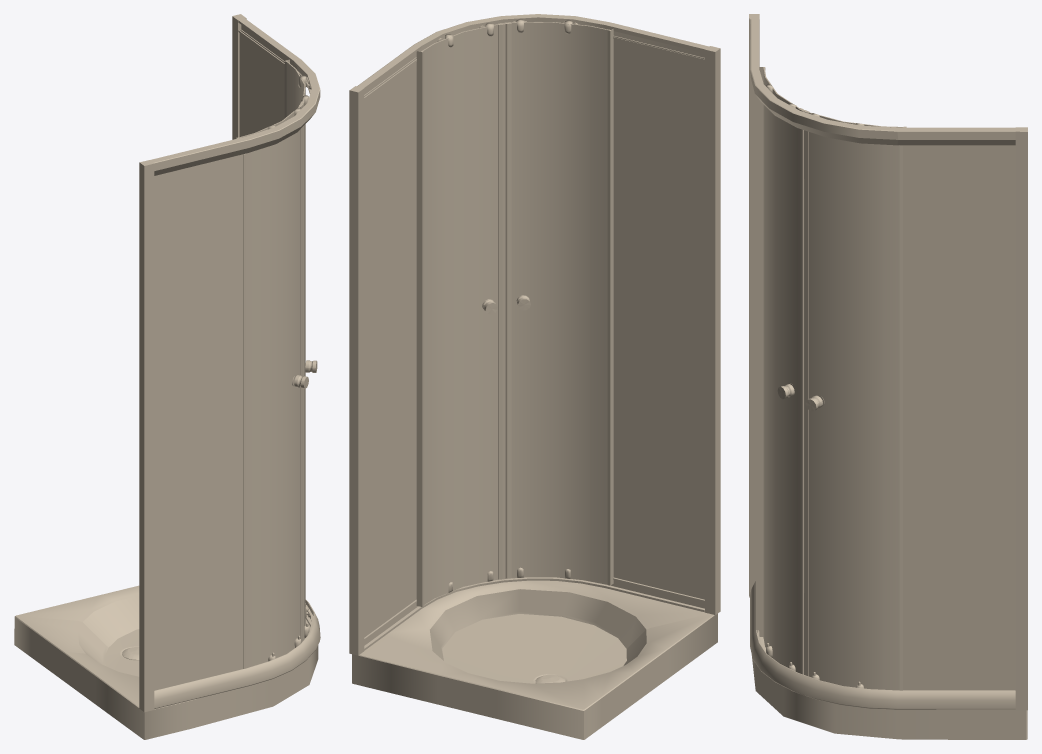
The model's file is round_shower_cabin_03_L.fbx.
3 views of the same model, side by side, from view 1: azimuth 30°, elevation 25°; view 2: azimuth 150°, elevation 25°; view 3: azimuth 270°, elevation 25° (orthographic). The views are drawn at different scales.
Parts seen in each view (by area): view 1: round_shower_cabin_03_L; view 2: round_shower_cabin_03_L; view 3: round_shower_cabin_03_L.
Boxes of the visible parts, box(x1,y1,x2,y2) form: round_shower_cabin_03_L: box(14, 14, 320, 739); round_shower_cabin_03_L: box(349, 14, 720, 739); round_shower_cabin_03_L: box(749, 14, 1027, 739).
Bounding box in the file's own units: 18.51 × 44.58 × 18.51.
